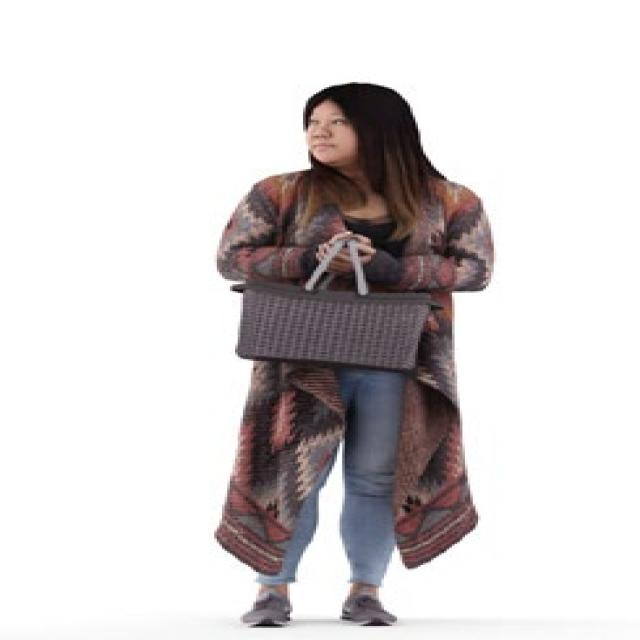standing: (208, 78, 503, 632)
